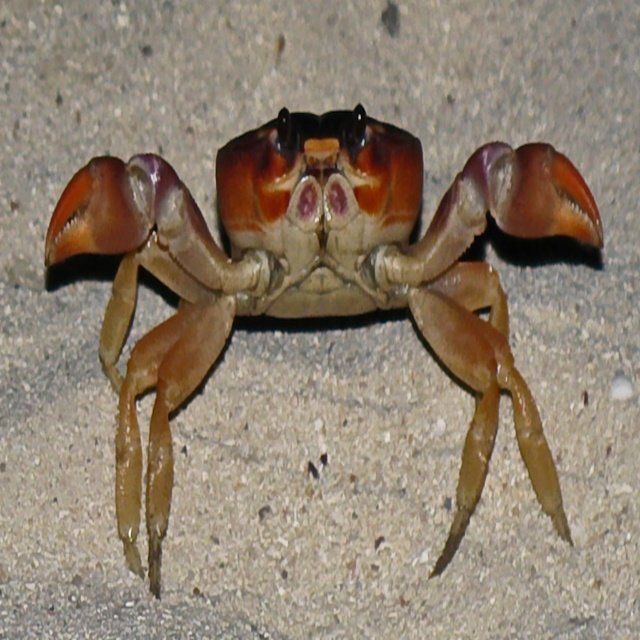Crab: (46, 103, 607, 596)
